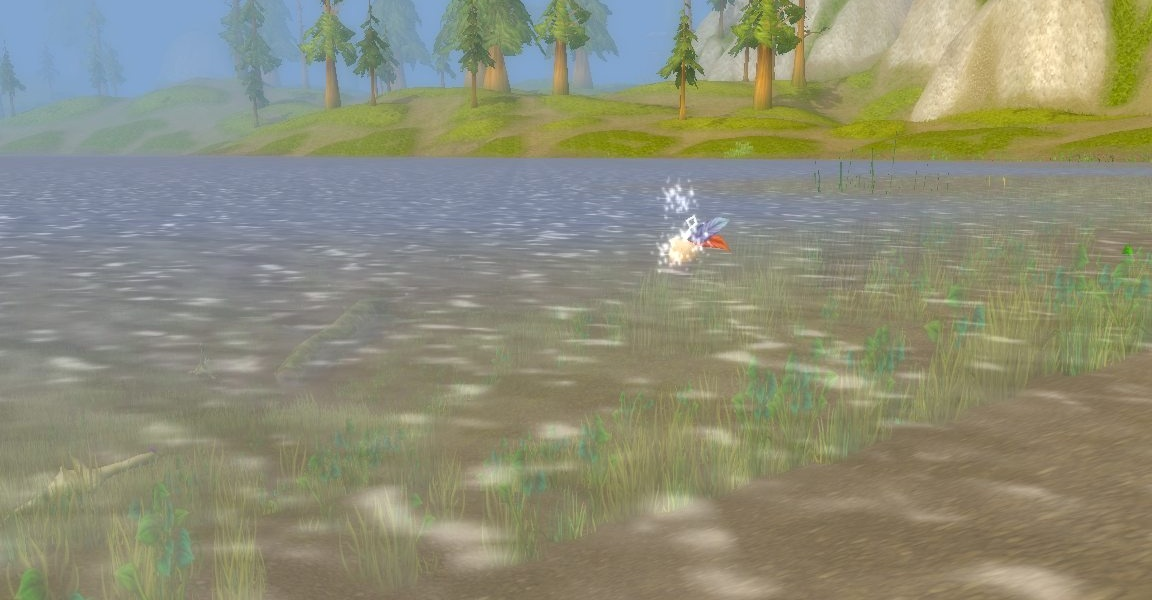Splash: (657, 211, 733, 270)
